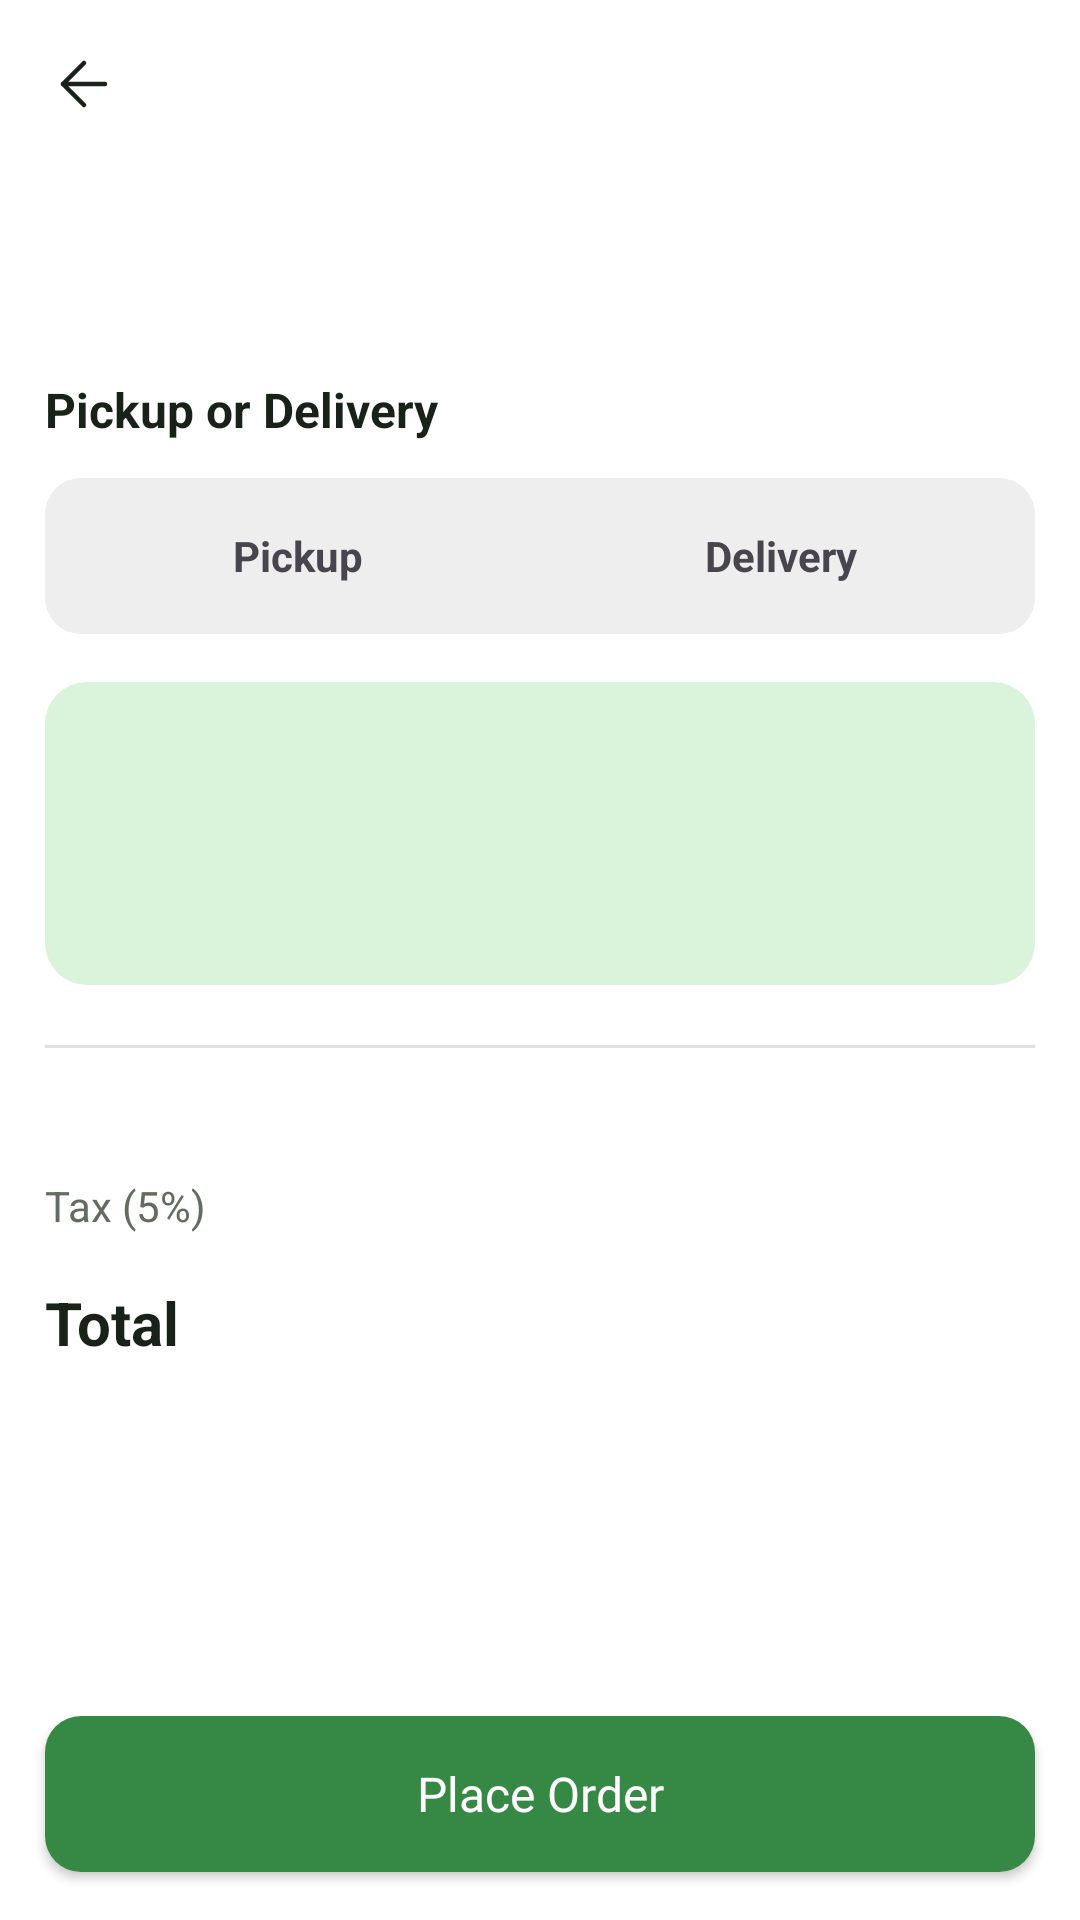

Icons on this 1080px×1920px Android screen, each with the point to tap as [x,y]:
Back: [83,84]
